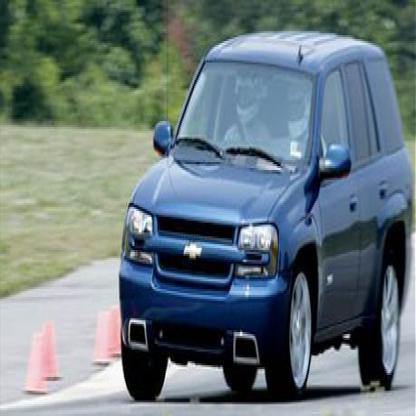Vehicle: (119, 30, 415, 402)
